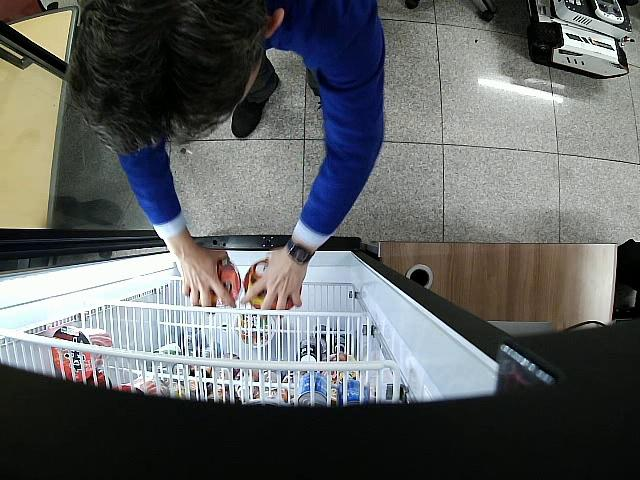00_hand: (167, 246, 236, 314), (242, 249, 306, 316)
05_nuguri_L: (243, 257, 293, 310), (199, 259, 241, 307)
